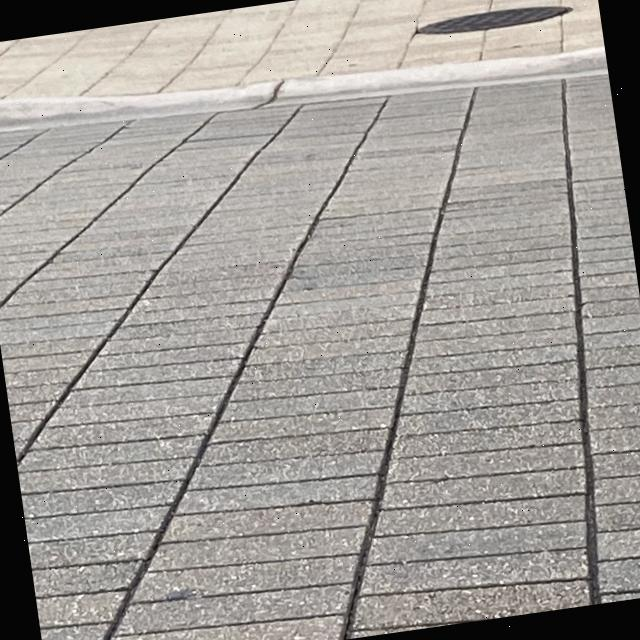curb: (0, 47, 607, 132)
